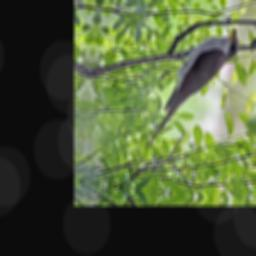Cuckoo: (142, 16, 242, 160)
